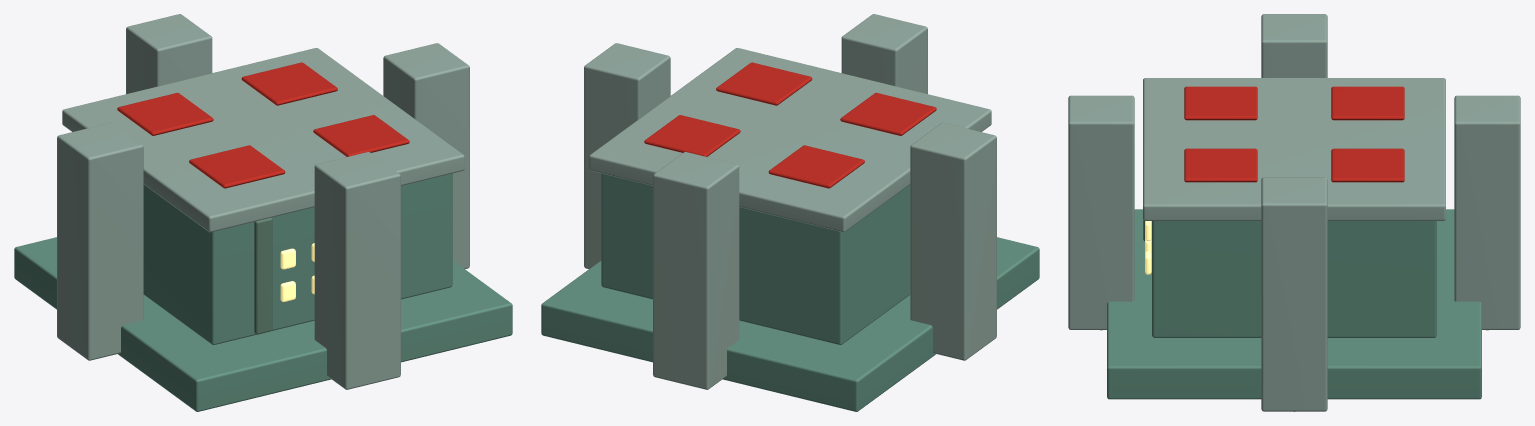
3 renders of one model, left to right at view 1: azimuth 30°, elevation 25°; view 2: azimuth 150°, elevation 25°; view 3: azimuth 270°, elevation 25°, orthographic. The views are drawn at different scales.
Parts seen in each view (by area): view 1: Block roof ledge, Modular block storey, Foundation slab, Block buttress.003, Block buttress.002, Block buttress, Block buttress.001, Roof recessed opening, Roof recessed opening.003, Roof recessed opening.001, Roof recessed opening.002, Vertical block colour strip; view 2: Block roof ledge, Modular block storey, Foundation slab, Block buttress.001, Block buttress.002, Block buttress, Block buttress.003, Roof recessed opening.001, Roof recessed opening.002, Roof recessed opening, Roof recessed opening.003; view 3: Block roof ledge, Modular block storey, Foundation slab, Block buttress, Block buttress.001, Block buttress.003, Block buttress.002, Roof recessed opening.002, Roof recessed opening.003, Roof recessed opening, Roof recessed opening.001.
Boxes of the visible parts, x1,y1,x2,y2 form: Block roof ledge: (62,48,464,232); Modular block storey: (143,173,452,344); Foundation slab: (14,237,512,411); Block buttress.003: (314,152,400,389); Block buttress.002: (57,122,143,360); Block buttress: (383,43,469,268); Block buttress.001: (126,14,212,93); Roof recessed opening: (189,145,285,188); Roof recessed opening.003: (241,62,337,105); Roof recessed opening.001: (117,92,213,135); Roof recessed opening.002: (313,115,409,156); Vertical block colour strip: (254,217,272,334); Block roof ledge: (589,48,991,232); Modular block storey: (601,173,910,344); Foundation slab: (541,237,1039,411); Block buttress.001: (653,152,739,389); Block buttress.002: (910,122,996,360); Block buttress: (584,43,670,268); Block buttress.003: (841,14,927,93); Roof recessed opening.001: (768,145,864,188); Roof recessed opening.002: (716,62,812,105); Roof recessed opening: (840,92,936,135); Roof recessed opening.003: (644,115,740,156); Block roof ledge: (1143,78,1445,220); Modular block storey: (1152,221,1436,337); Foundation slab: (1107,209,1481,399); Block buttress: (1261,177,1327,411); Block buttress.001: (1454,95,1520,329); Block buttress.003: (1068,95,1134,329); Block buttress.002: (1261,14,1327,77); Roof recessed opening.002: (1184,148,1257,182); Roof recessed opening.003: (1331,148,1404,182); Roof recessed opening: (1184,86,1257,120); Roof recessed opening.001: (1331,86,1404,120).
Bounding box in the file's own units: 2.46 × 1.27 × 2.46.
